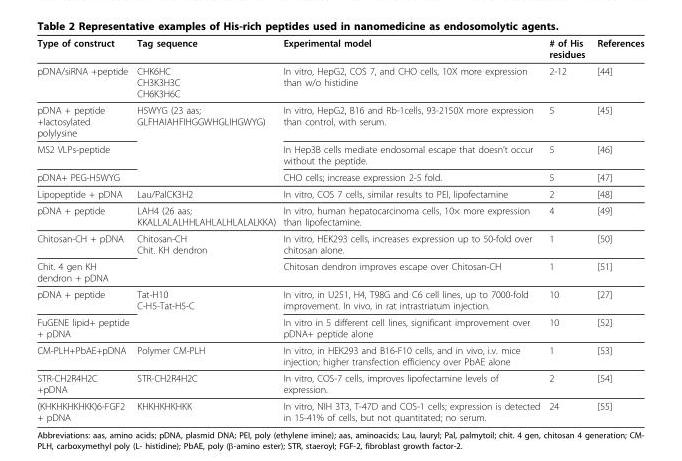table: (36, 36, 643, 422)
table column: (278, 36, 543, 422), (132, 36, 278, 422), (36, 36, 132, 422), (590, 36, 643, 422), (543, 36, 590, 422)
table column header: (36, 36, 643, 62)
table row: (36, 62, 643, 101), (36, 101, 643, 140), (36, 140, 643, 168), (36, 201, 643, 229), (36, 229, 643, 257), (36, 257, 643, 285), (36, 285, 643, 313), (36, 313, 643, 341), (36, 341, 643, 369), (36, 369, 643, 397), (36, 36, 643, 62), (36, 397, 643, 422), (36, 168, 643, 185), (36, 185, 643, 201)
